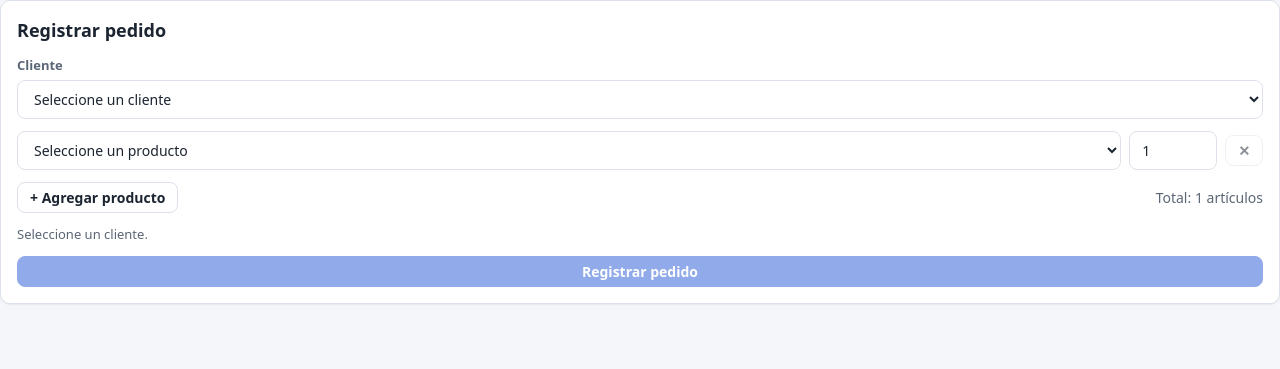
Scenario: OrderForm › removes a line but never the last one
Step 1. Click the button "+ Agregar producto" → (98, 197), box [17, 182, 178, 212]
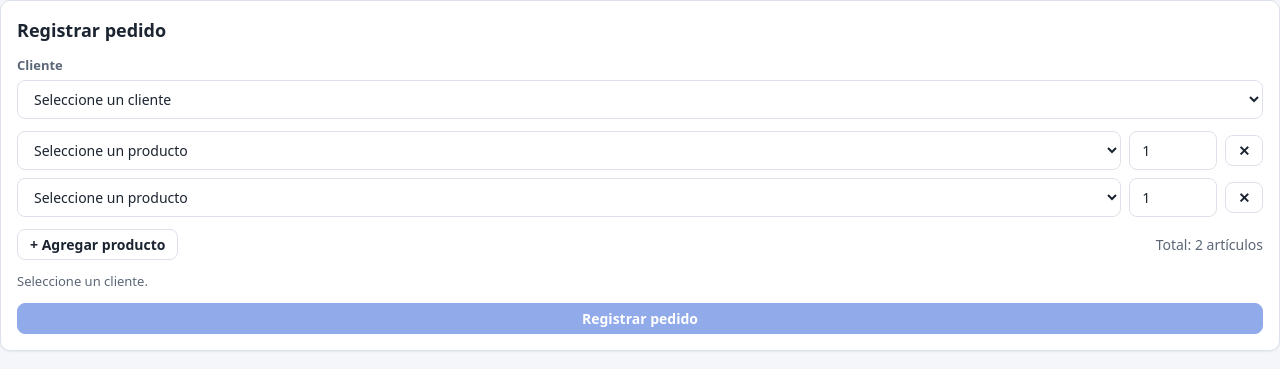
Check: the number of dropdowns named "Producto 1" is 2, box [17, 130, 1121, 170]; [17, 178, 1121, 216]
Step 2. Click the button named "Quitar línea 2" → (1244, 197), box [1225, 182, 1263, 212]
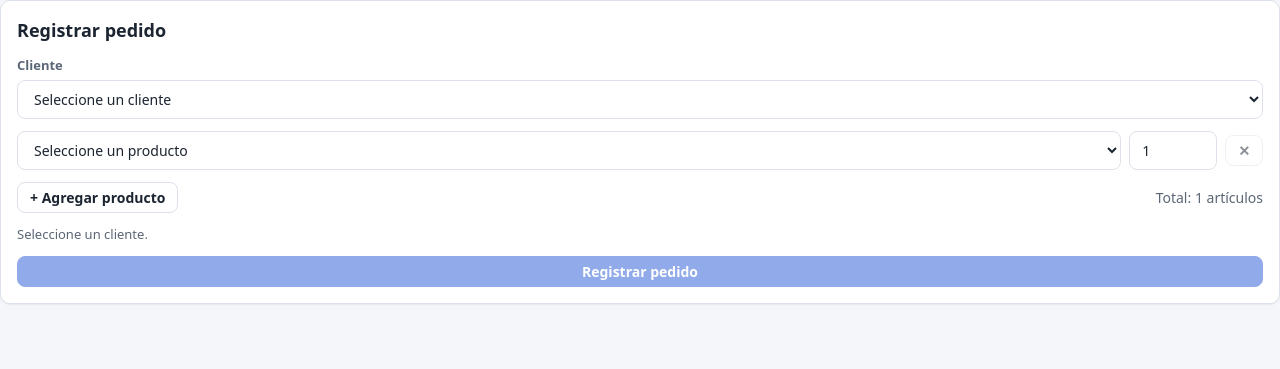
Check: the number of dropdowns named "Producto 1" is 1, box [17, 130, 1121, 170]
Check: the button named "Quitar línea 1" is disabled, box [1225, 134, 1263, 166]
